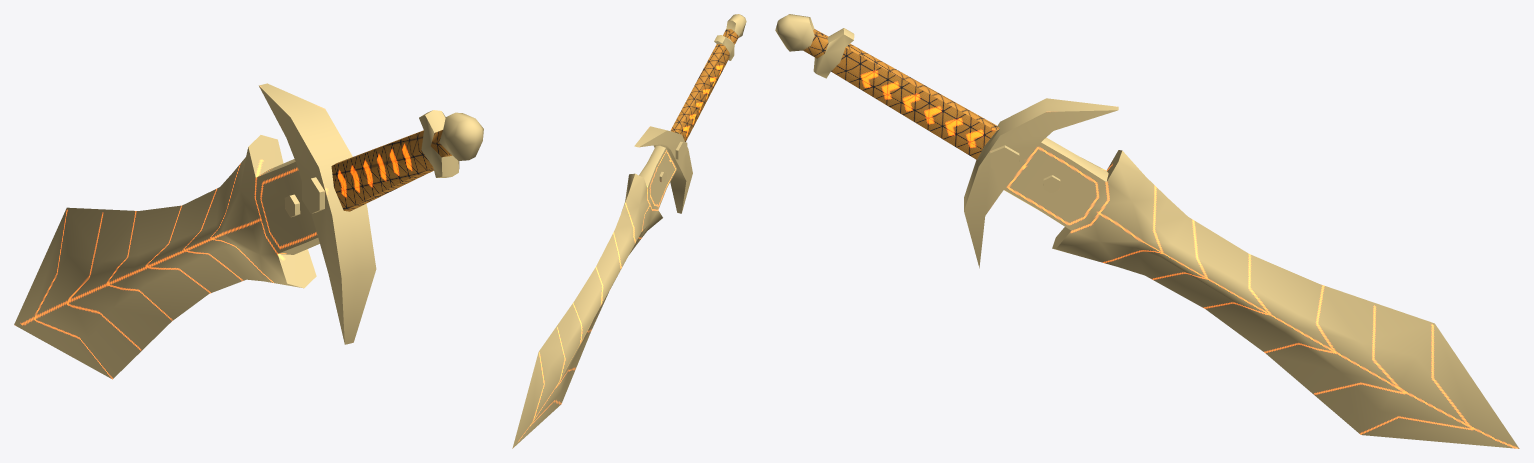
File: HIP_GOLDEN_SWORD.fbx
The picture shows the model from 3 angles, left to right: view 1: azimuth 30°, elevation 25°; view 2: azimuth 150°, elevation 25°; view 3: azimuth 270°, elevation 25°; orthographic projection. The views are drawn at different scales.
Visible parts, largest first — view 1: HIP_GOLDEN_SWORD; view 2: HIP_GOLDEN_SWORD; view 3: HIP_GOLDEN_SWORD.
Boxes of the visible parts, bbox=[...] form: HIP_GOLDEN_SWORD: bbox=[14, 83, 483, 379]; HIP_GOLDEN_SWORD: bbox=[512, 14, 746, 448]; HIP_GOLDEN_SWORD: bbox=[775, 14, 1519, 448].
Size of the model in its own units: 0.00417 by 0.0434 by 0.0676.
